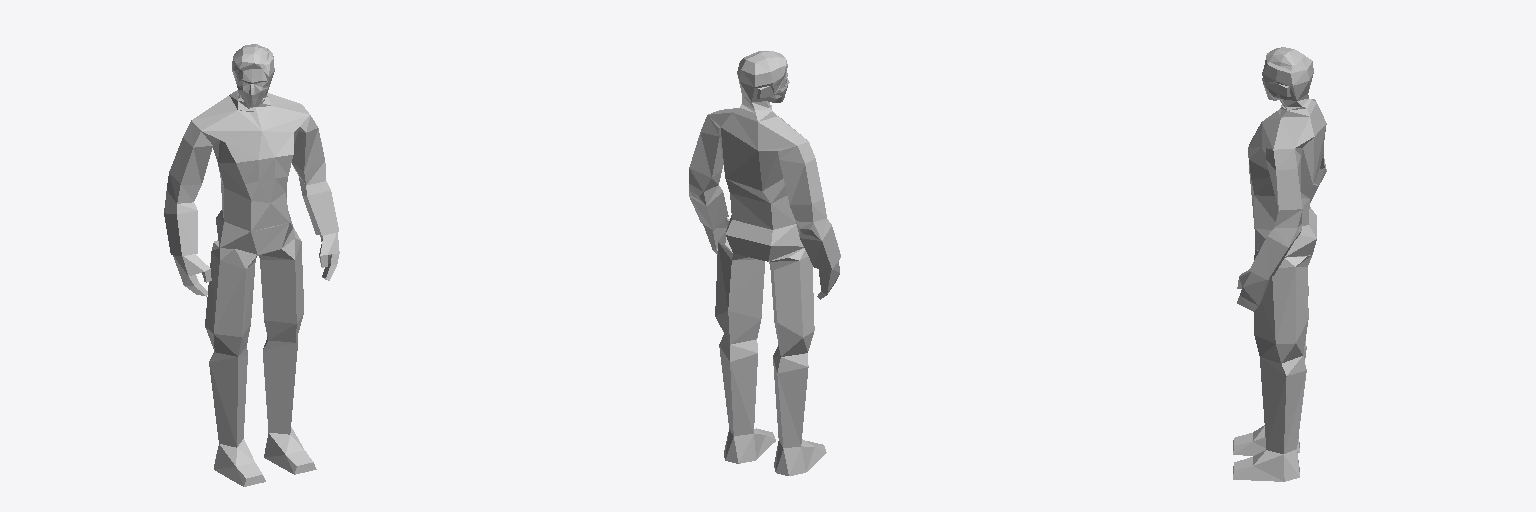
Rendered from Manuel106.obj.
3 views of the same model, side by side, from view 1: azimuth 30°, elevation 25°; view 2: azimuth 150°, elevation 25°; view 3: azimuth 270°, elevation 25° (orthographic).
Visible parts, largest first — view 1: leon; view 2: leon; view 3: leon.
Part boxes in pixels (left/top/right/bottom): leon: left=164, top=44, right=339, bottom=486; leon: left=689, top=51, right=840, bottom=475; leon: left=1233, top=47, right=1326, bottom=481.
Bounding box in the file's own units: 4.64 × 12.19 × 2.52.